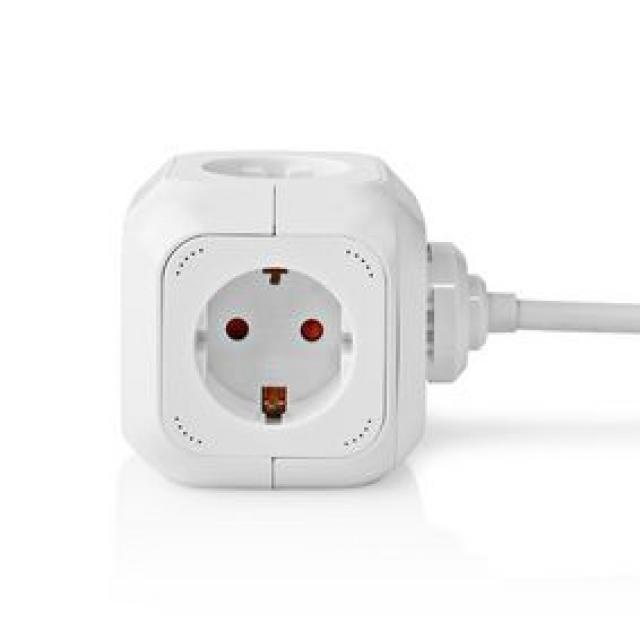typeb: (144, 213, 403, 462)
